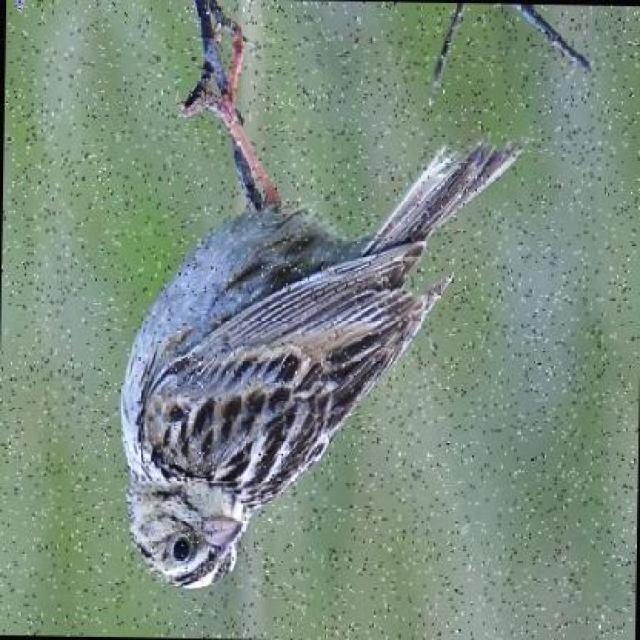Bird: (119, 91, 399, 584)
